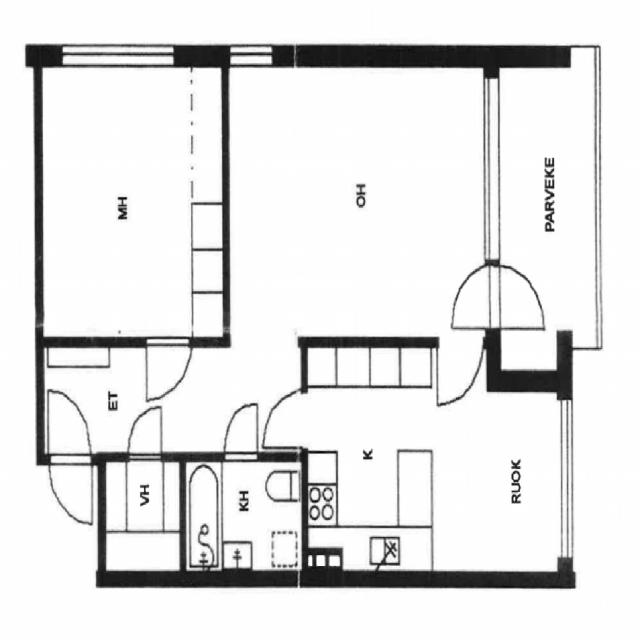door: (441, 265, 502, 328), (486, 265, 546, 328), (436, 337, 484, 413), (48, 391, 92, 464), (48, 453, 92, 525), (147, 337, 190, 409), (262, 392, 308, 448), (128, 407, 162, 462), (225, 407, 258, 462)
